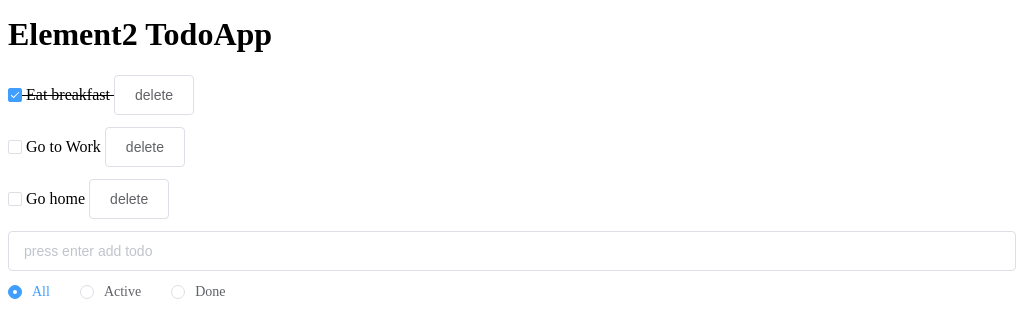
Behavioral › should remove deleted item
Click the button with test id "delete-btn" next to "Eat breakfast".
click(154, 95)  # box top-left (114, 75), bottom-right (194, 115)
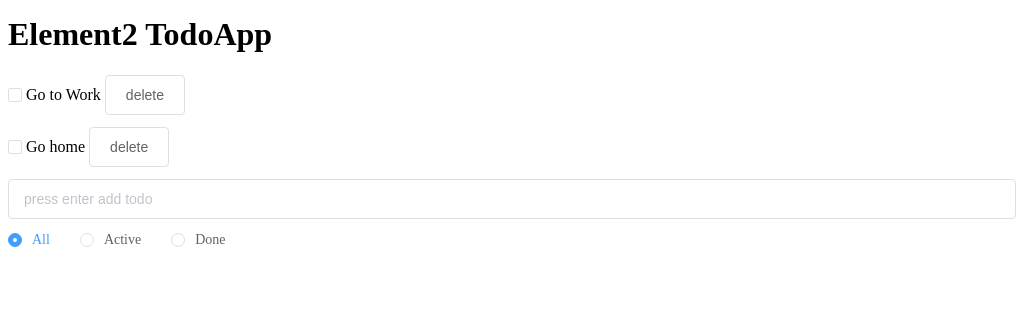
Expected: the text with test id "todo-app" no longer shows "Eat breakfast"
